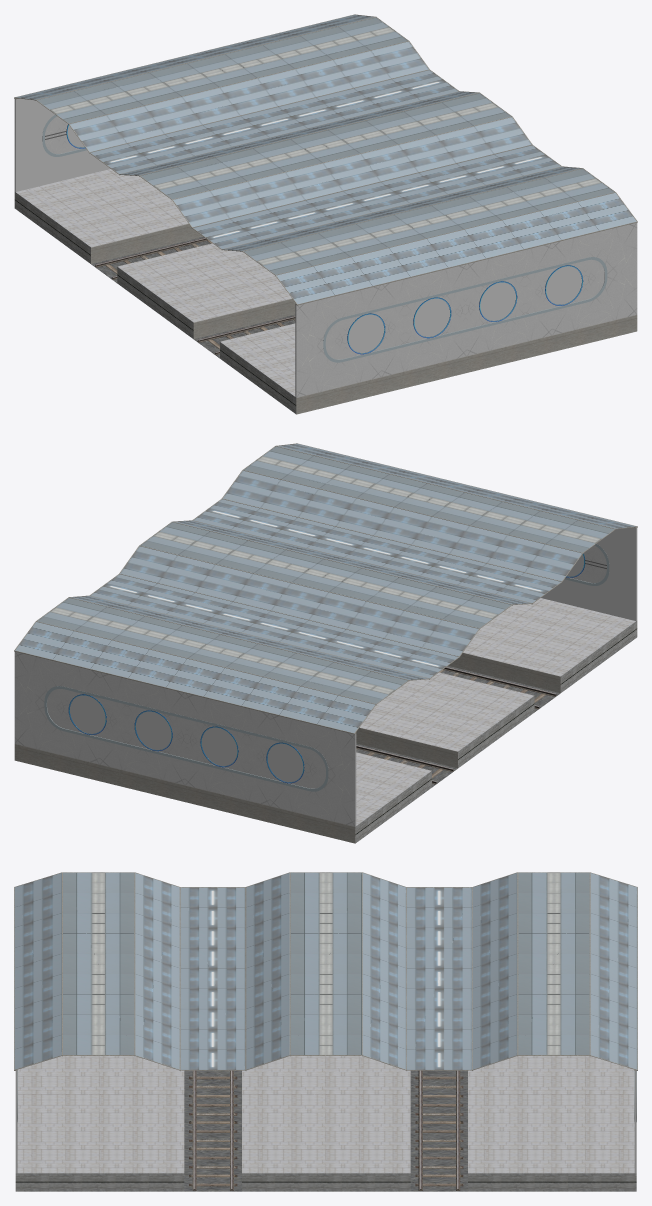
File: Station03a.FBX
3 renders of one model, top to bottom at view 1: azimuth 30°, elevation 25°; view 2: azimuth 150°, elevation 25°; view 3: azimuth 270°, elevation 25°, orthographic. The views are drawn at different scales.
Parts seen in each view (by area): view 1: Station03Roof03, Station03Roof01, Station03Floors, Station03Wall01, Station03Roof02, Station03Wall03, Station03RoofMtl, Station03WallCircle, Station03WallElipse, Station03FloorWay, Station03Railway, Station03WallCircle_a; view 2: Station03Roof03, Station03Roof01, Station03Floors, Station03Wall01, Station03Roof02, Station03Wall03, Station03RoofMtl, Station03WallCircle, Station03WallElipse, Station03FloorWay, Station03Railway, Station03WallCircle_a; view 3: Station03Floors, Station03Roof03, Station03Roof01, Station03Roof02, Station03FloorWay, Station03Railway, Station03RoofMtl, Station03Wall01.
Boxes of the visible parts, x1,y1,x2,y2 form: Station03Roof03: (16, 14, 636, 303); Station03Roof01: (37, 17, 614, 274); Station03Floors: (14, 169, 637, 414); Station03Wall01: (14, 98, 637, 397); Station03Roof02: (90, 70, 560, 249); Station03Wall03: (45, 116, 604, 359); Station03RoofMtl: (14, 14, 637, 305); Station03WallCircle: (67, 125, 581, 352); Station03WallElipse: (42, 114, 607, 362); Station03FloorWay: (91, 236, 295, 358); Station03Railway: (95, 238, 295, 355); Station03WallCircle_a: (66, 124, 583, 354); Station03Roof03: (15, 443, 635, 732); Station03Roof01: (37, 446, 614, 703); Station03Floors: (14, 598, 637, 843); Station03Wall01: (14, 527, 637, 826); Station03Roof02: (91, 499, 560, 678); Station03Wall03: (47, 545, 606, 788); Station03RoofMtl: (14, 443, 637, 734); Station03WallCircle: (70, 554, 583, 781); Station03WallElipse: (44, 543, 609, 791); Station03FloorWay: (356, 666, 560, 787); Station03Railway: (356, 667, 556, 784); Station03WallCircle_a: (68, 553, 585, 783); Station03Floors: (15, 1056, 636, 1191); Station03Roof03: (14, 873, 637, 1069); Station03Roof01: (63, 872, 589, 1054); Station03Roof02: (180, 887, 471, 1069); Station03FloorWay: (184, 1070, 467, 1191); Station03Railway: (189, 1070, 463, 1190); Station03RoofMtl: (14, 872, 637, 1070); Station03Wall01: (15, 1070, 636, 1173).
Size of the model in its own units: 1417 by 492 by 2040.
